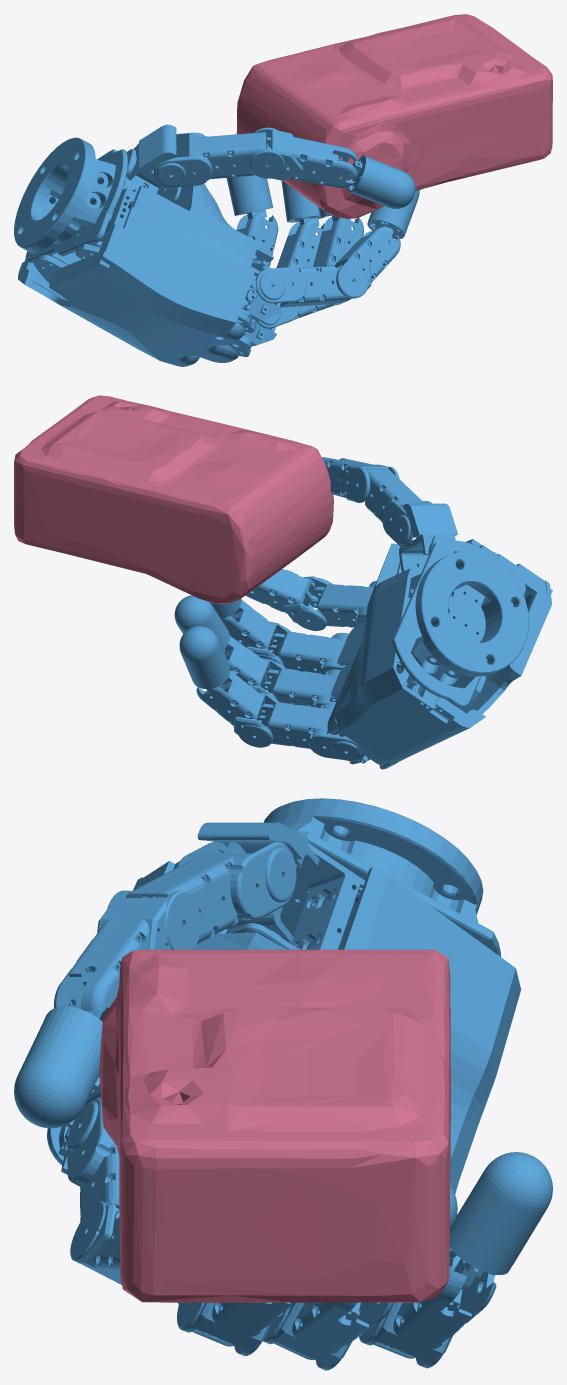
The picture shows the model from 3 angles, top to bottom: view 1: azimuth 30°, elevation 25°; view 2: azimuth 150°, elevation 25°; view 3: azimuth 270°, elevation 25°; orthographic projection. The views are drawn at different scales.
Visible parts, largest first — view 1: 0; view 2: 0; view 3: 0.
Boxes of the visible parts, x1,y1,x2,y2 form: 0: [14, 14, 552, 366]; 0: [14, 395, 552, 769]; 0: [14, 798, 552, 1370].
Bounding box in the file's own units: 0.2788 × 0.139 × 0.1464.
